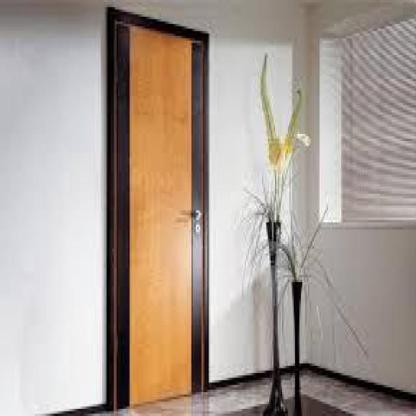door: (107, 2, 213, 414)
